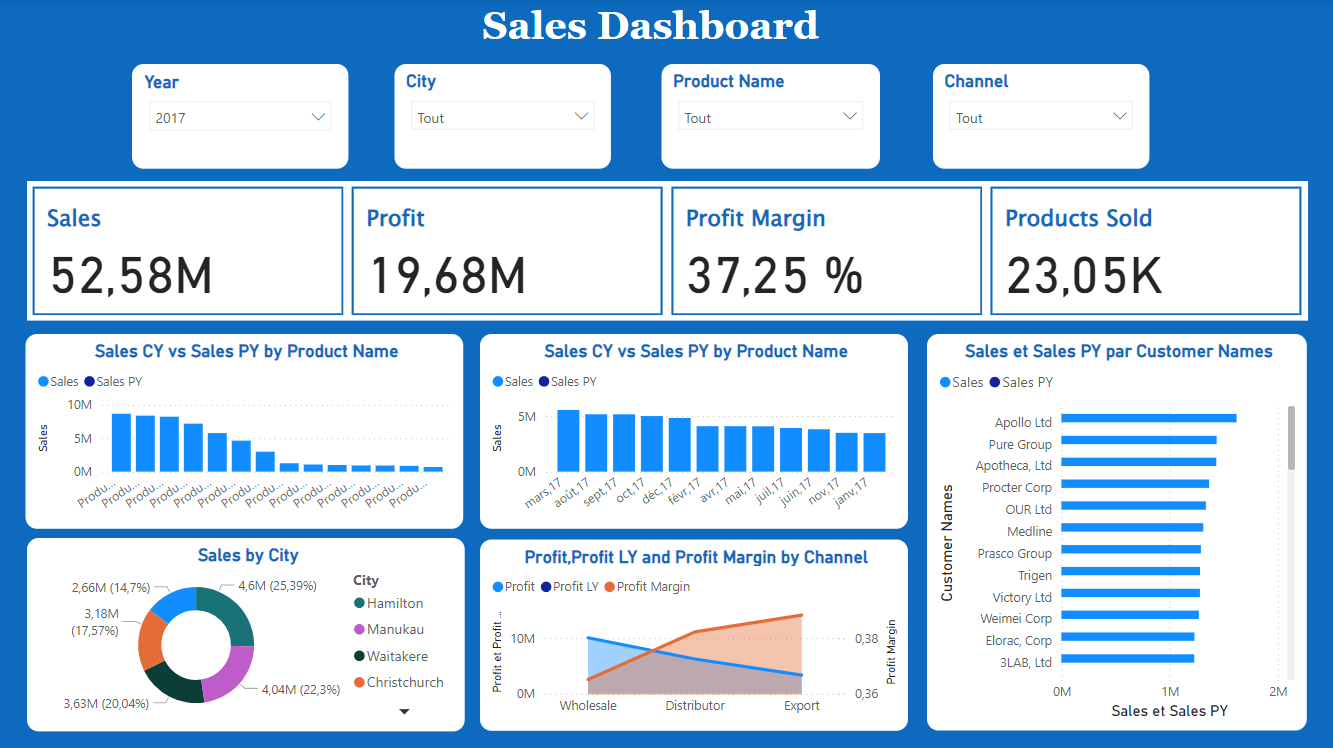

This screenshot's page, from the dashboard's own definition file:
{"tool":"powerbi","page":{"name":"Page 1","canvas":[1280,720],"ordinal":0},"visuals":[{"type":"slicer","title":"Year","fields":{"Values":["DateTable.Year"]},"box":[128.8,63.6,206.8,100.2],"z":0},{"type":"slicer","title":"Product Name","fields":{"Values":["Products_Data.Product Name"]},"box":[634.7,63.6,208.4,100.2],"z":1000},{"type":"slicer","title":"City","fields":{"Values":["Regions_Table.City"]},"box":[380.2,63.6,206.8,100.2],"z":2000},{"type":"slicer","title":"Channel","fields":{"Values":["Sales_Data.Channel"]},"box":[893.9,63.6,206.8,100.2],"z":3000},{"type":"textbox","box":[458.1,0,396.1,89.1],"z":4000},{"type":"cardVisual","fields":{"Data":["Sum(Sales.Sales)","Sum(Sales.Profit)","Avg(Sales.Profit Margin)","Sales.Products Sold"]},"box":[28.6,175,1223.2,133.6],"z":5000},{"type":"clusteredBarChart","fields":{"Category":["Customer.Customer Names"],"Y":["Sales.Sales_1","Sales.Sales PY"]},"box":[887.6,321.3,362.7,378.6],"z":6000},{"type":"lineClusteredColumnComboChart","title":"Sales CY vs Sales PY by Product Name","fields":{"Category":["Date.Month Short Name Plus Year"],"Y2":["Sales.Sales PY"],"Y":["Sales.Sales_1"]},"box":[461.3,321.3,408.8,186.1],"z":7000},{"type":"areaChart","title":"Profit,Profit LY and Profit Margin by Channel","fields":{"Category":["Sales.Channel"],"Y":["Sales.Profit_1","Sales.Profit LY"],"Y2":["Sales.Profit Margin 1"]},"box":[461.3,516.9,408.8,182.9],"z":8000},{"type":"lineClusteredColumnComboChart","title":"Sales CY vs Sales PY by Product Name","fields":{"Category":["Product.Product Name"],"Y":["Sales.Sales_1"],"Y2":["Sales.Sales PY"]},"box":[27,321.3,418.3,186.1],"z":9000},{"type":"donutChart","title":"Sales by City","fields":{"Category":["Region.City"],"Y":["Sum(Sales.Sales)"]},"box":[28.6,515.4,418.3,184.5],"z":10000}]}

Visuals, with their boxes in screenshot pixels (x1, y1, x2, y2), scaled from the page's 1280x720 canvas onto the 1333x748 screenshot:
"Year" slicer: 134:66:349:170
"Product Name" slicer: 661:66:878:170
"City" slicer: 396:66:611:170
"Channel" slicer: 931:66:1146:170
textbox: 477:0:890:93
cardVisual - Sum(Sales.Sales) x Sum(Sales.Profit): 30:182:1304:321
clusteredBarChart - Customer.Customer Names x Sales.Sales_1: 924:334:1302:727
"Sales CY vs Sales PY by Product Name" lineClusteredColumnComboChart: 480:334:906:527
"Profit,Profit LY and Profit Margin by Channel" areaChart: 480:537:906:727
"Sales CY vs Sales PY by Product Name" lineClusteredColumnComboChart: 28:334:464:527
"Sales by City" donutChart: 30:535:465:727
